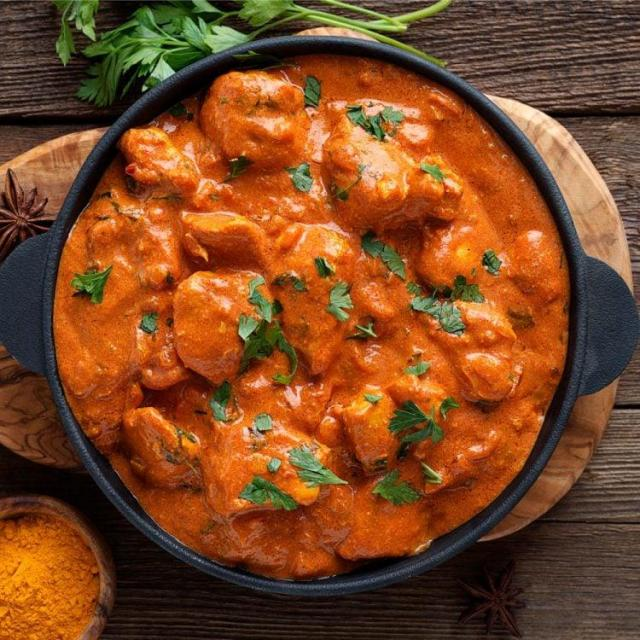chicken: (64, 67, 566, 558)
